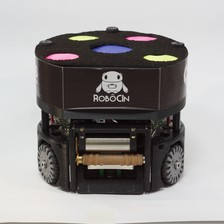robot: (27, 21, 193, 199)
